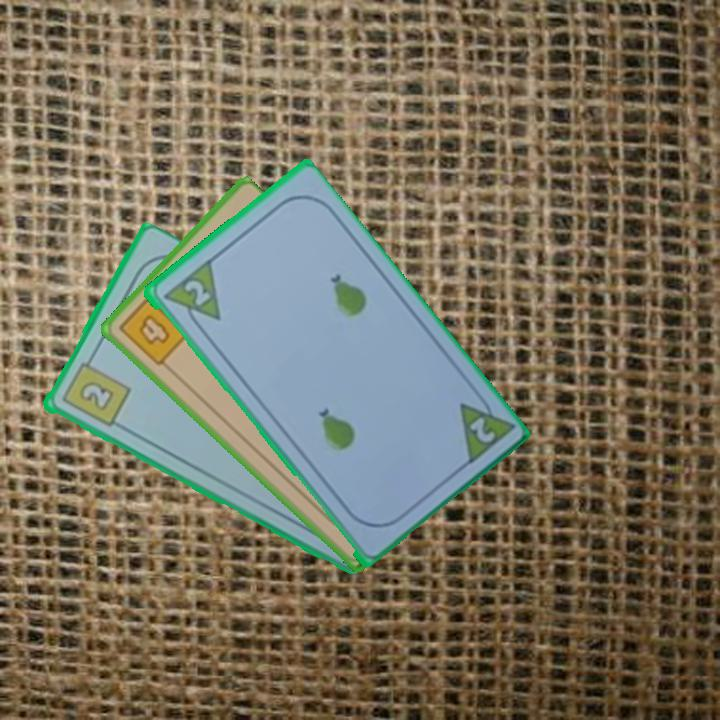2b: (57, 351, 133, 430)
2p: (454, 386, 515, 469), (180, 275, 213, 309)
4b: (115, 287, 191, 369)
